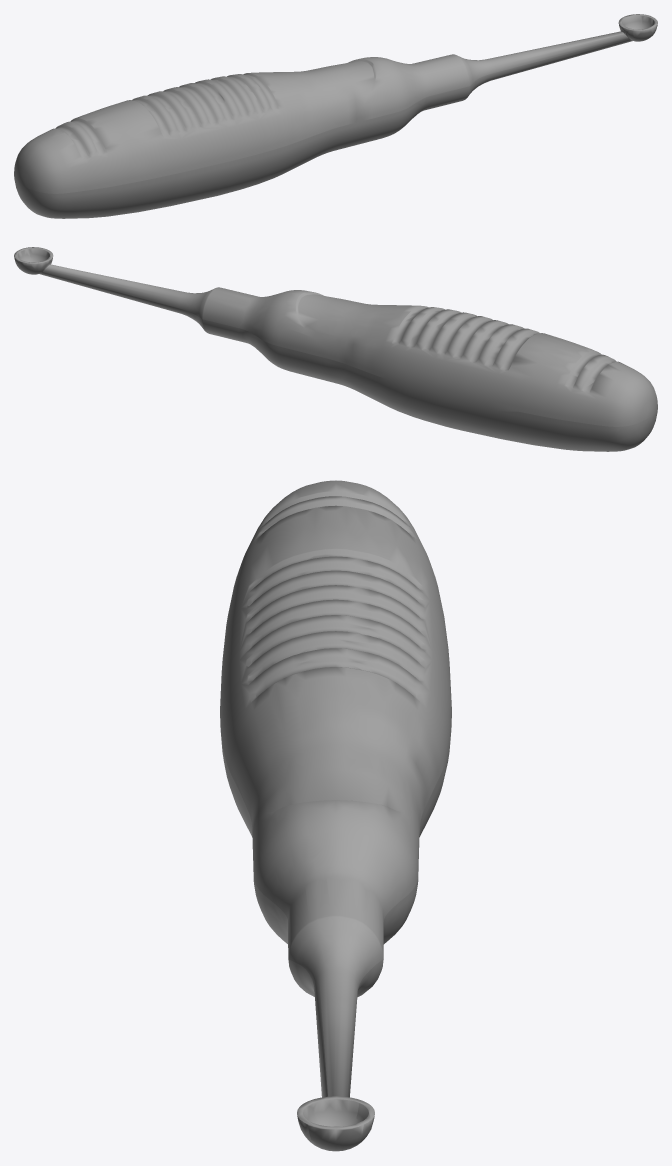
Rendered from instrument_spoon_a01.glb.
The picture shows the model from 3 angles, top to bottom: view 1: azimuth 30°, elevation 25°; view 2: azimuth 150°, elevation 25°; view 3: azimuth 270°, elevation 25°; orthographic projection. The views are drawn at different scales.
Parts seen in each view (by area): view 1: part0; view 2: part0; view 3: part0.
Part boxes in pixels (x1=…): part0: x1=14, y1=14, x2=657, y2=218; part0: x1=14, y1=247, x2=657, y2=451; part0: x1=220, y1=480, x2=451, y2=1151.
Bounding box in the file's own units: 0.1824 × 0.0288 × 0.0289.
1 material, 1 textured.
